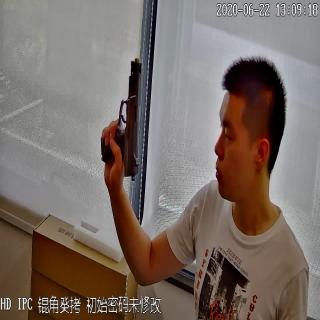gun: (98, 55, 142, 182)
